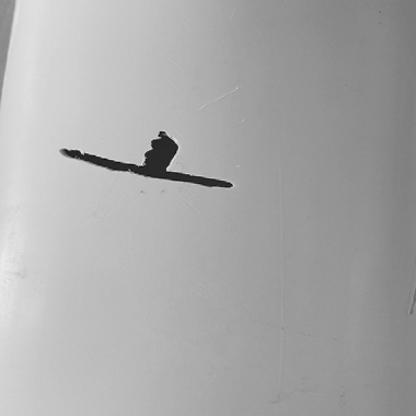fengxi: (58, 148, 234, 189)
kongdong: (141, 130, 180, 170)
